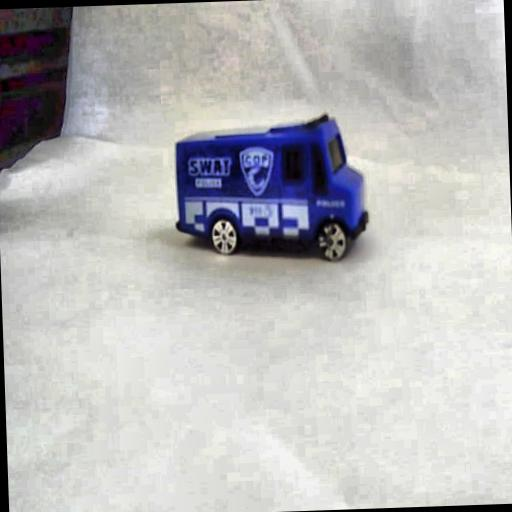police car: (170, 120, 372, 274)
